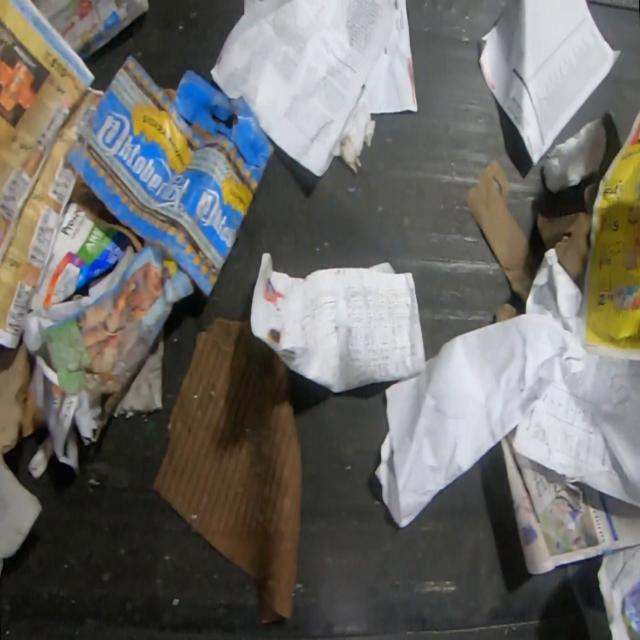cardboard: (62, 53, 274, 299), (153, 318, 302, 617), (462, 156, 592, 308), (28, 199, 126, 316), (0, 339, 43, 453)
